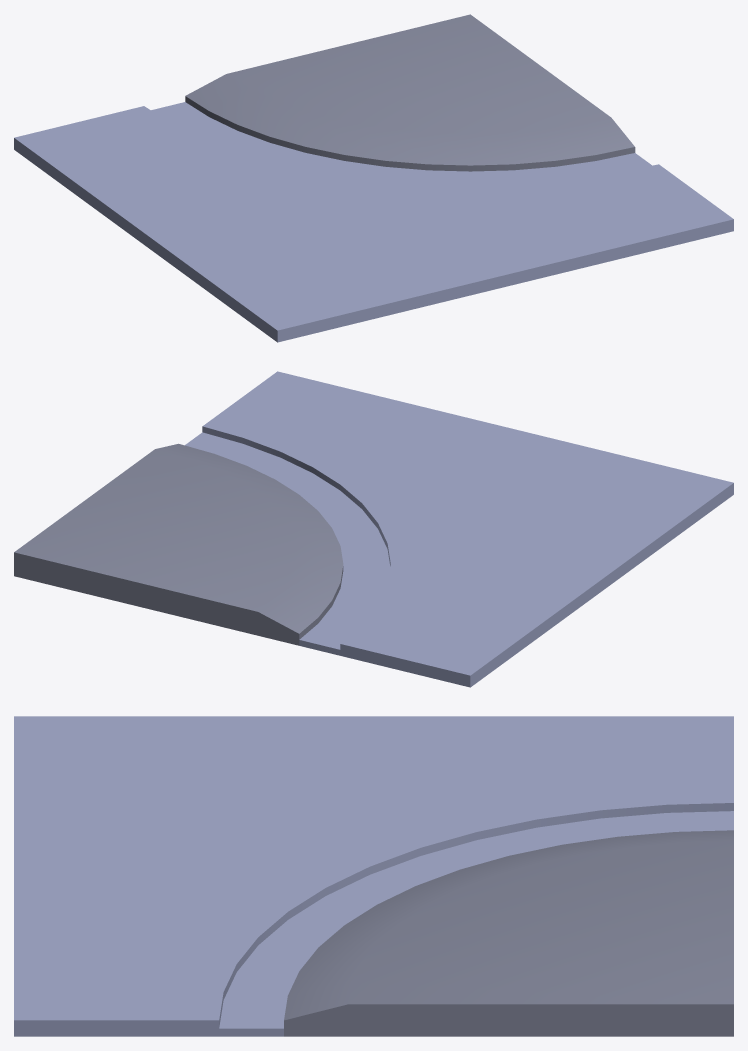
The model's file is road-corner.glb.
3 renders of one model, top to bottom at view 1: azimuth 30°, elevation 25°; view 2: azimuth 150°, elevation 25°; view 3: azimuth 270°, elevation 25°, orthographic. The views are drawn at different scales.
Parts seen in each view (by area): view 1: road-corner; view 2: road-corner; view 3: road-corner.
Part boxes in pixels (x1,y1,x2,y2): road-corner: (14,14,733,342); road-corner: (14,371,733,687); road-corner: (14,716,733,1036).
Size of the model in its own units: 1 by 0.05 by 1.
Materials: 1 (1 with a texture image).
